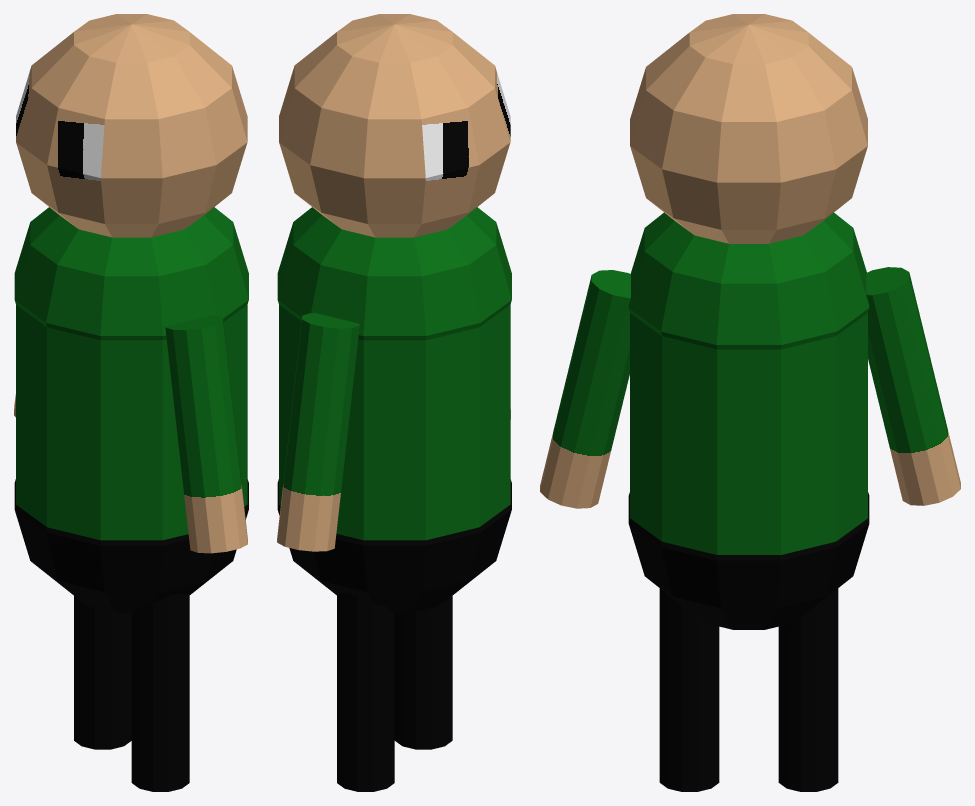
Rendered from Soldier.fbx.
3 views of the same model, side by side, from view 1: azimuth 30°, elevation 25°; view 2: azimuth 150°, elevation 25°; view 3: azimuth 270°, elevation 25° (orthographic). The views are drawn at different scales.
Parts seen in each view (by area): view 1: sphere, cylinder, sphere_1, cylinder_3, sphere_2, cylinder_2, cylinder_1; view 2: sphere, cylinder, sphere_1, cylinder_4, sphere_2, cylinder_1, cylinder_2; view 3: cylinder, sphere, sphere_1, sphere_2, cylinder_4, cylinder_3, cylinder_2, cylinder_1.
Part boxes in pixels (x1,y1,x2,y2): sphere: [16, 14, 247, 237]; cylinder: [16, 305, 247, 540]; sphere_1: [14, 207, 248, 340]; cylinder_3: [165, 315, 247, 553]; sphere_2: [14, 479, 248, 612]; cylinder_2: [131, 593, 189, 791]; cylinder_1: [74, 596, 131, 749]; sphere: [279, 14, 510, 237]; cylinder: [279, 305, 510, 540]; sphere_1: [277, 207, 511, 340]; cylinder_4: [277, 313, 359, 551]; sphere_2: [277, 479, 511, 612]; cylinder_1: [337, 593, 394, 791]; cylinder_2: [394, 596, 452, 749]; cylinder: [630, 313, 867, 554]; sphere: [630, 14, 867, 243]; sphere_1: [628, 212, 869, 349]; sphere_2: [628, 492, 869, 629]; cylinder_4: [866, 267, 960, 505]; cylinder_3: [540, 270, 630, 508]; cylinder_2: [659, 588, 719, 791]; cylinder_1: [778, 588, 838, 791].
Bounding box in the file's own units: 50.62 × 175 × 88.41.
Materials: 1 (1 with a texture image).
